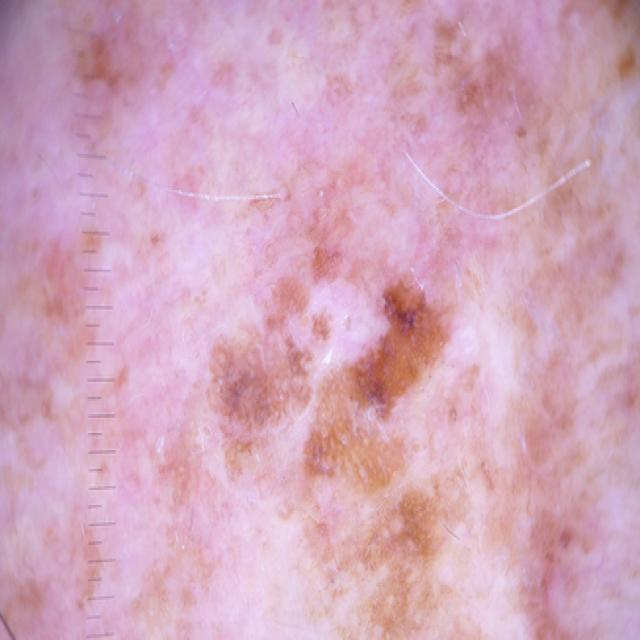Keratosis: (209, 173, 512, 640)
